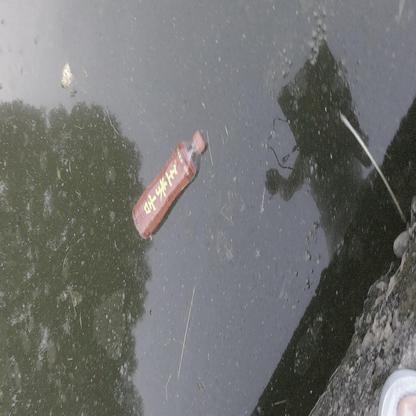plastic bottle: (130, 129, 207, 239)
